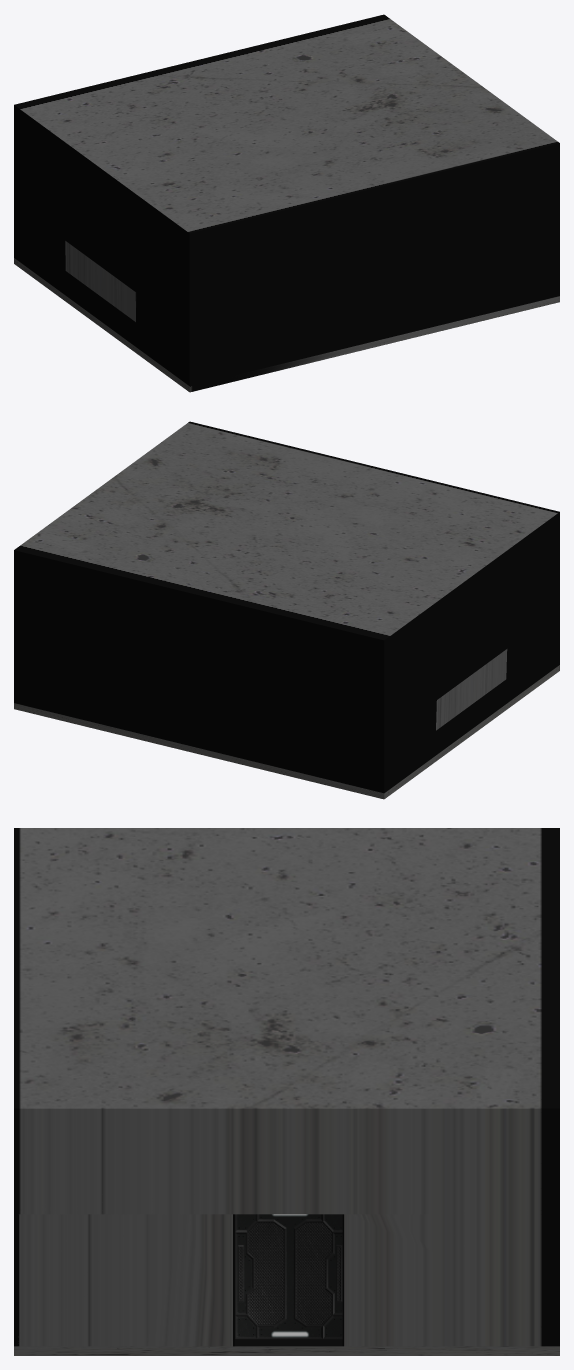
The model's file is cena da cena.fbx.
3 renders of one model, top to bottom at view 1: azimuth 30°, elevation 25°; view 2: azimuth 150°, elevation 25°; view 3: azimuth 270°, elevation 25°, orthographic. The views are drawn at different scales.
Parts seen in each view (by area): view 1: Cube_001; view 2: Cube_001; view 3: Cube_001.
Part boxes in pixels (x1,y1,x2,y2): Cube_001: [14, 14, 559, 392]; Cube_001: [14, 421, 559, 799]; Cube_001: [14, 828, 559, 1355].
Size of the model in its own units: 29.35 by 12.03 by 24.09.
3 materials, 3 textured.
